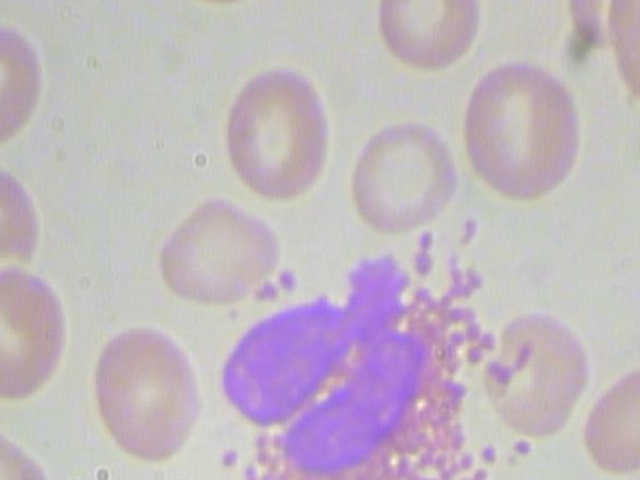RBC: (450, 53, 588, 203), (78, 315, 215, 466), (220, 55, 333, 209), (218, 53, 331, 207), (473, 298, 592, 436), (153, 190, 287, 310), (348, 118, 460, 237), (0, 258, 75, 408), (373, 0, 485, 70), (578, 363, 640, 479)
WBC: (208, 207, 541, 480)
